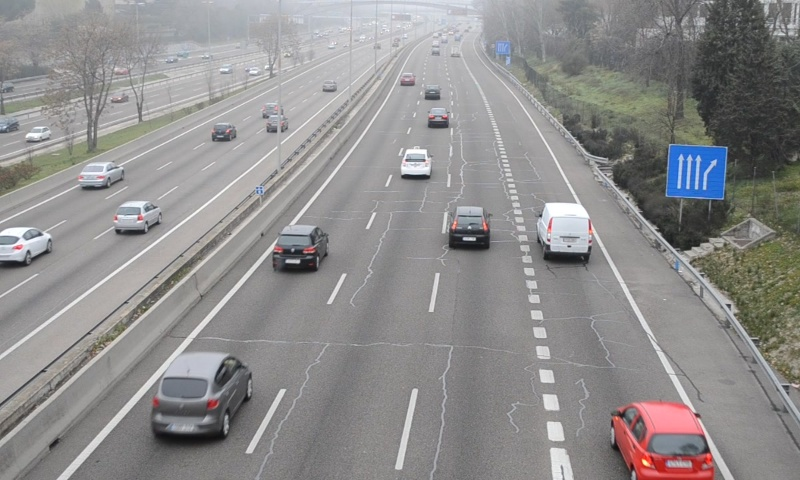car: (149, 352, 254, 442), (609, 398, 718, 478), (271, 224, 328, 270), (449, 205, 490, 247), (400, 148, 431, 176), (426, 107, 450, 128), (423, 82, 441, 100), (400, 70, 416, 86)
van: (539, 202, 593, 258)
